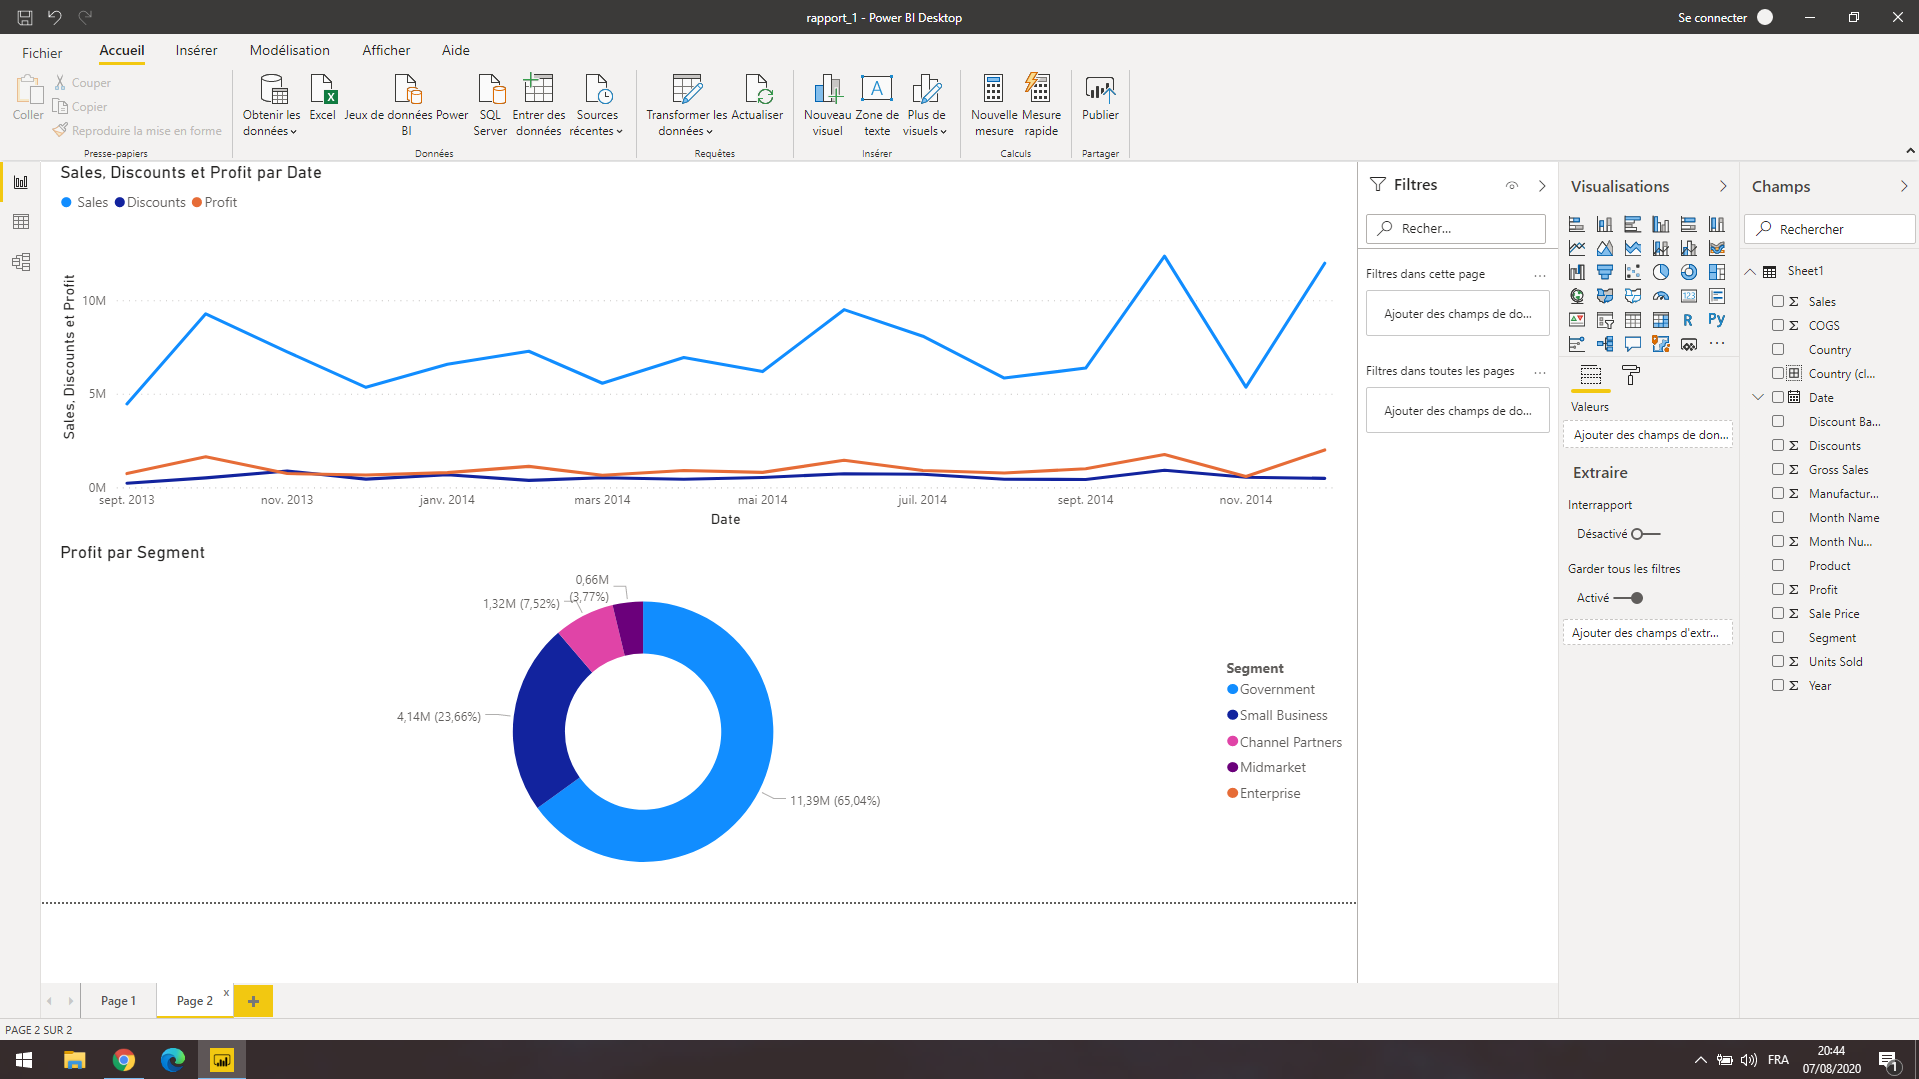

What the dashboard file says about the page in this screenshot:
{"tool":"powerbi","page":{"name":"Page 2","canvas":[1280,720],"ordinal":1},"visuals":[{"type":"lineChart","fields":{"Category":["Sheet1.Date"],"Y":["Sum(Sheet1. Sales)","Sum(Sheet1.Discounts)","Sum(Sheet1.Profit)"]},"box":[13.6,0,1266.4,359.9],"z":0},{"type":"donutChart","fields":{"Category":["Sheet1.Segment"],"Y":["Sum(Sheet1.Profit)"]},"box":[13.6,369.9,1266.4,350.1],"z":1000}]}

Visuals, with their boxes on the page's 1280x720 design canvas (x1, y1, x2, y2). These are canvas units, not pixel positions in the 1919x1079 screenshot, which may show the page scaled, cropped or inside an application window:
lineChart - Sheet1.Date x Sum(Sheet1. Sales): crop(14, 0, 1280, 360)
donutChart - Sheet1.Segment x Sum(Sheet1.Profit): crop(14, 370, 1280, 720)
